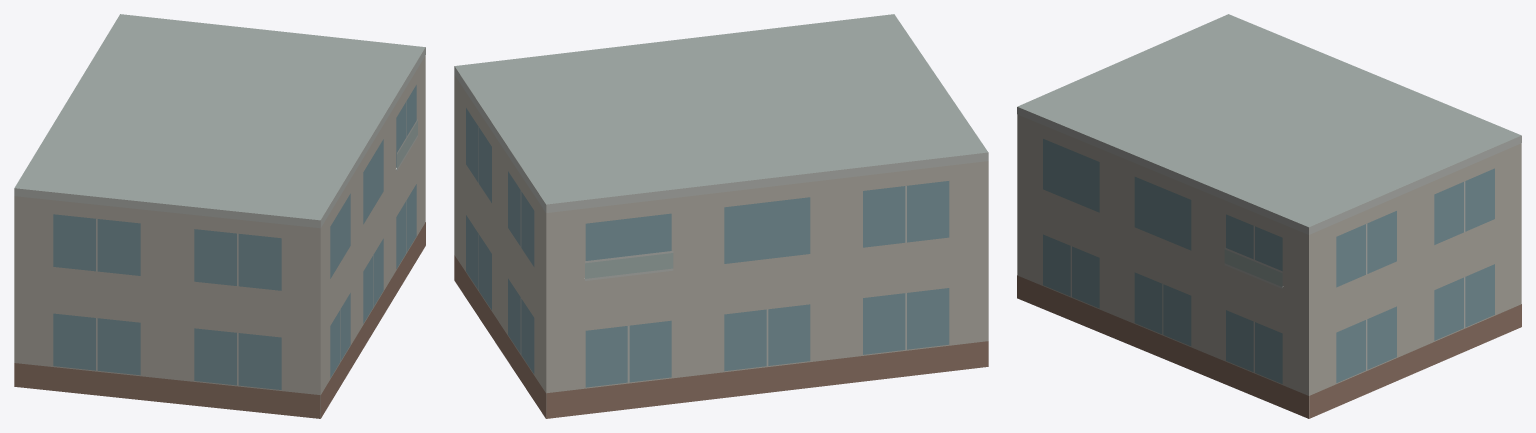
The model's file is survey-upis-32721890.glb.
3 views of the same model, side by side, from view 1: azimuth 30°, elevation 25°; view 2: azimuth 150°, elevation 25°; view 3: azimuth 270°, elevation 25° (orthographic). The views are drawn at different scales.
Visible parts, largest first — view 1: survey-upis-32721890.tmp; view 2: survey-upis-32721890.tmp; view 3: survey-upis-32721890.tmp.
Part boxes in pixels (x1,y1,x2,y2): survey-upis-32721890.tmp: [14, 14, 425, 418]; survey-upis-32721890.tmp: [454, 14, 988, 418]; survey-upis-32721890.tmp: [1017, 14, 1521, 418].
Size of the model in its own units: 14.58 by 6.1 by 14.57.
